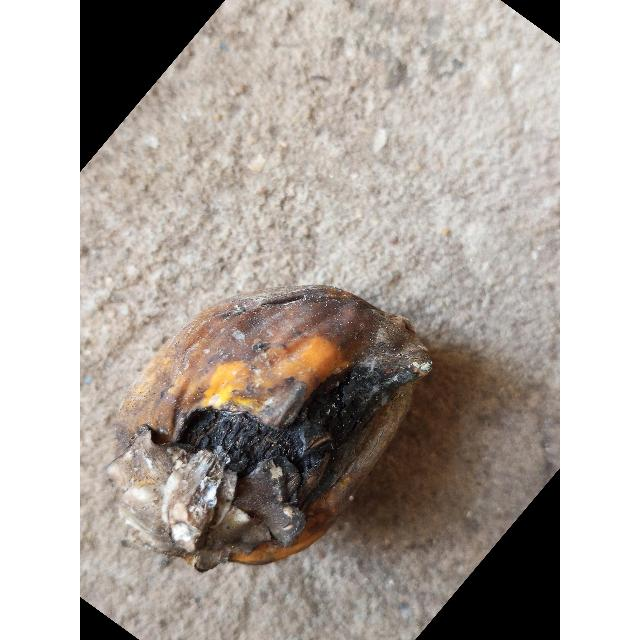damaged: (147, 287, 432, 573)
